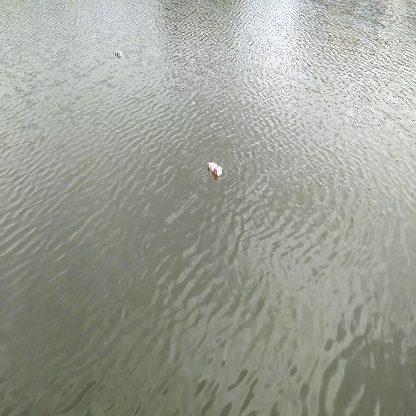bottle: (204, 159, 226, 179)
